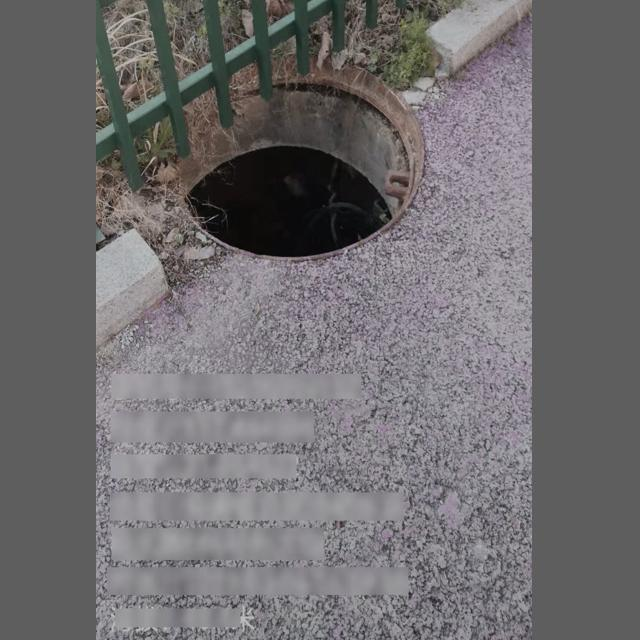lose: (139, 49, 453, 272)
